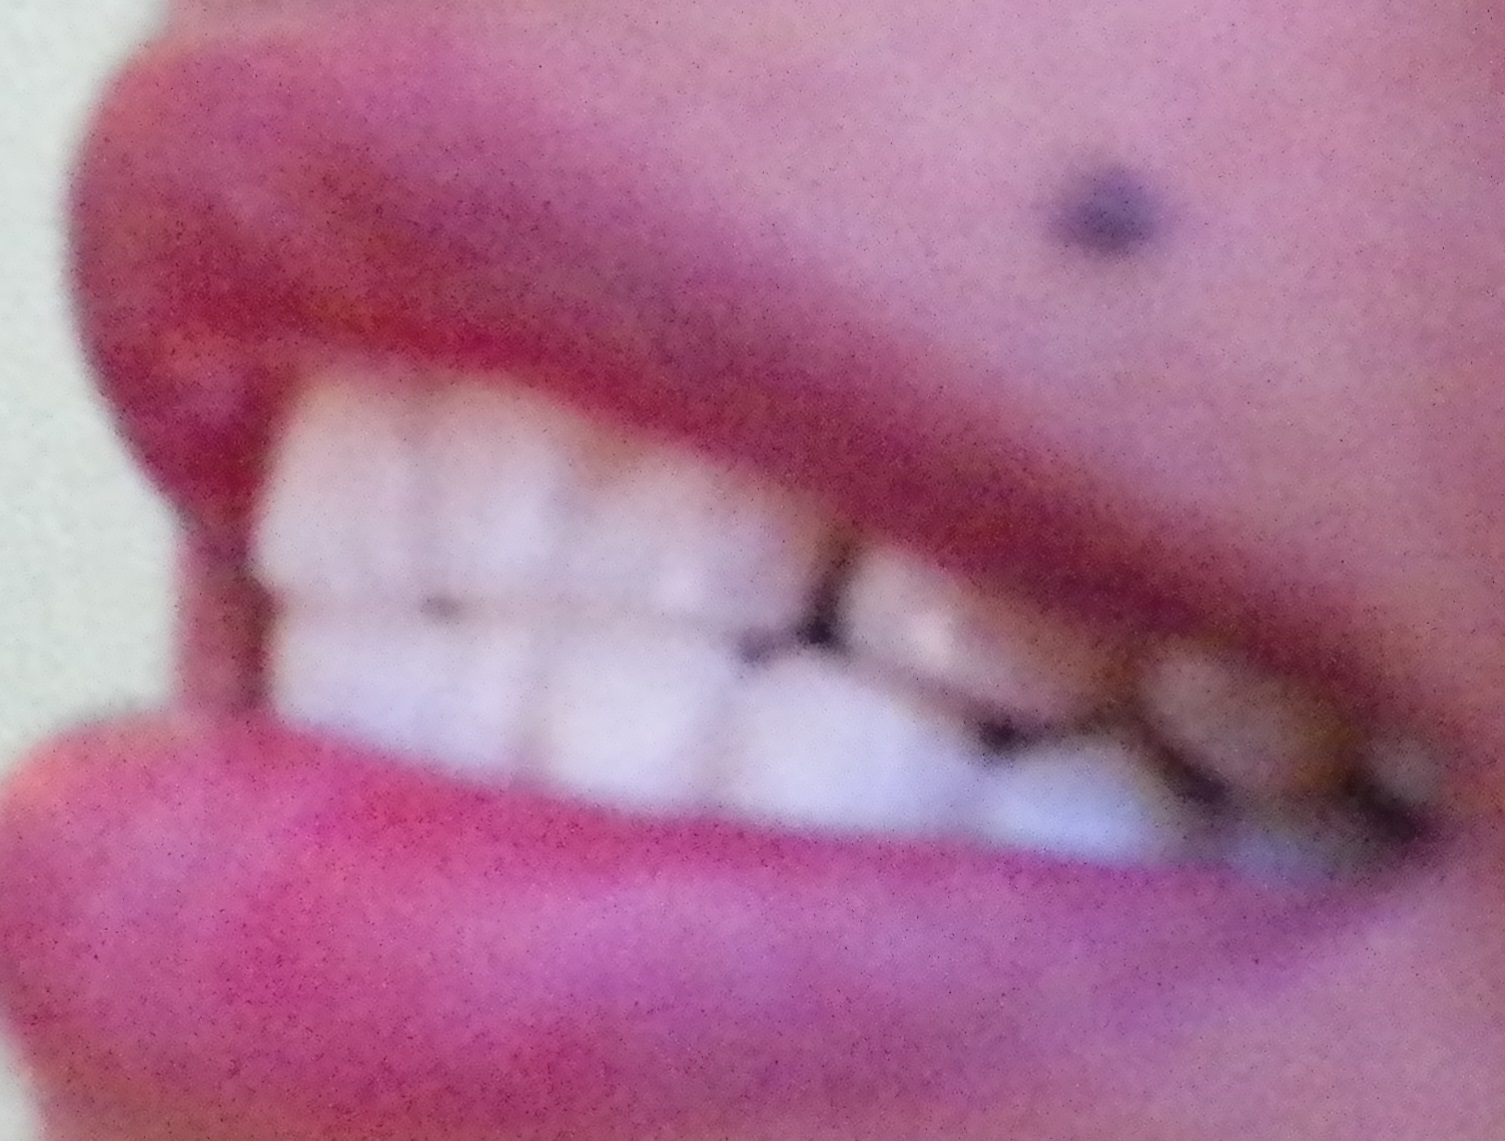boca: (187, 372, 1418, 867)
